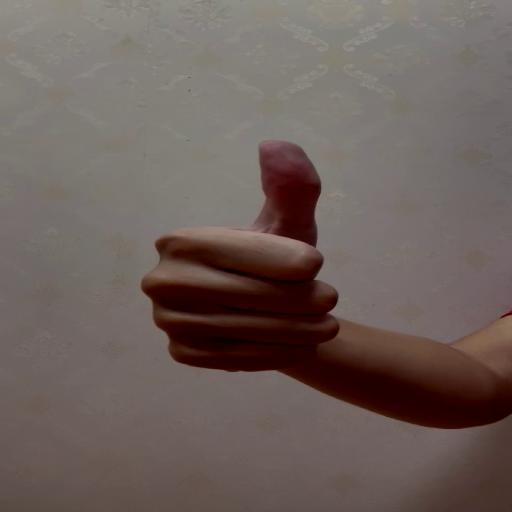thumbs_up: (138, 137, 340, 372)
